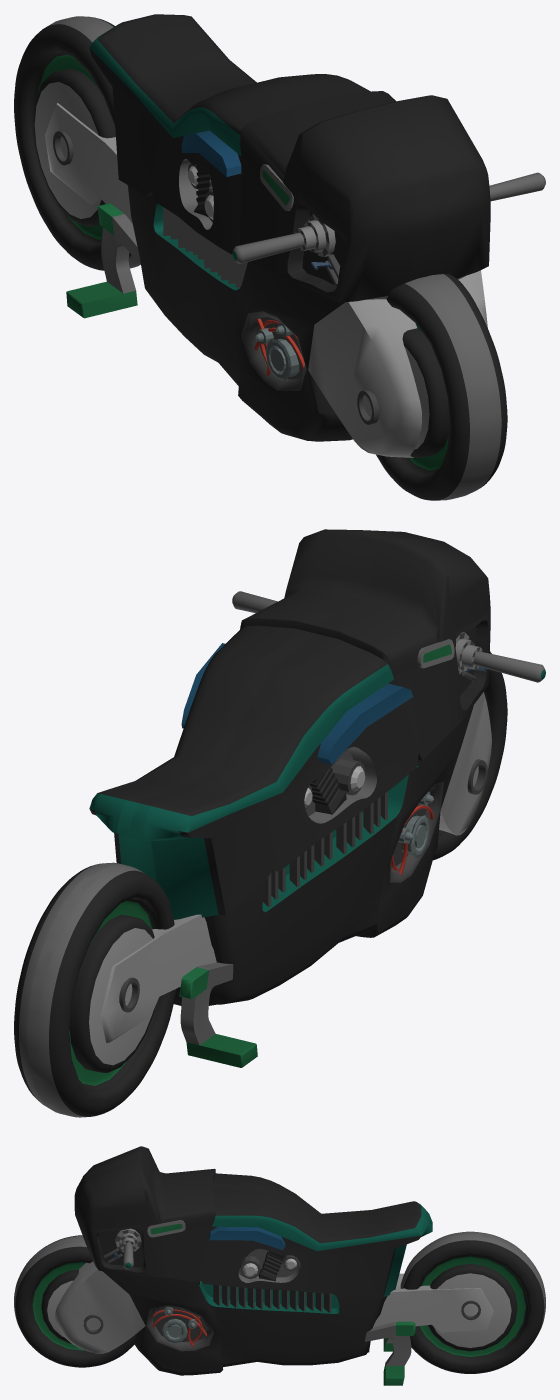
The model's file is Motorcycle.fbx.
The picture shows the model from 3 angles, top to bottom: view 1: azimuth 30°, elevation 25°; view 2: azimuth 150°, elevation 25°; view 3: azimuth 270°, elevation 25°; orthographic projection. The views are drawn at different scales.
Parts seen in each view (by area): view 1: Motorcycle; view 2: Motorcycle; view 3: Motorcycle.
Part boxes in pixels (box(x1,y1,x2,y2)): Motorcycle: box(14, 14, 545, 500); Motorcycle: box(14, 529, 545, 1117); Motorcycle: box(14, 1146, 545, 1385).
Size of the model in its own units: 1.46 by 1.64 by 3.73.
